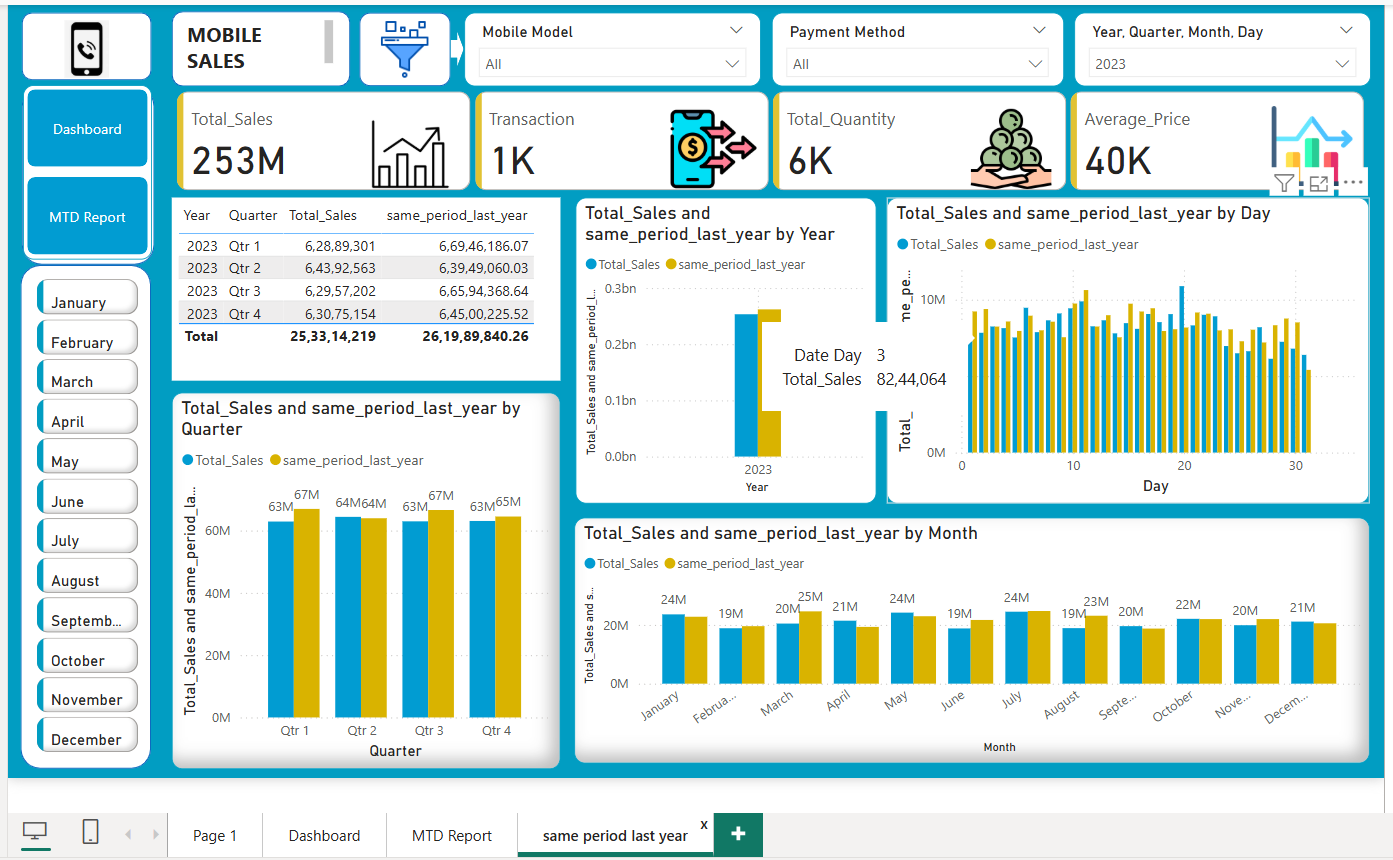

Layout of this report page (visuals, bound fields, positions):
{"tool":"powerbi","page":{"name":"same period last year","canvas":[1280,720],"ordinal":3},"visuals":[{"type":"shape","box":[12.3,6.9,120.8,63.1],"z":0},{"type":"image","box":[37,9.6,71.4,63.1],"z":1000},{"type":"shape","box":[12.3,75.5,123.5,166],"z":2000},{"type":"cardVisual","fields":{"Data":["mobile_sales_dataset.Total_Sales","mobile_sales_dataset.Transaction","mobile_sales_dataset.Total_Quantity","mobile_sales_dataset.Average_Price"]},"box":[152.3,75.5,1115.6,102.9],"z":3000},{"type":"slicer","fields":{"Values":["mobile_sales_dataset.Mobile Model"]},"box":[424,6.9,275.8,68.6],"z":4000},{"type":"slicer","fields":{"Values":["mobile_sales_dataset.Payment Method"]},"box":[710.8,6.9,271.7,68.6],"z":5000},{"type":"slicer","fields":{"Values":["custom_calender.Date.Variation.Date Hierarchy.Year","custom_calender.Date.Variation.Date Hierarchy.Quarter","custom_calender.Date.Variation.Date Hierarchy.Month","custom_calender.Date.Variation.Date Hierarchy.Day"]},"box":[992.1,6.9,275.8,68.6],"z":6000},{"type":"shape","box":[326.6,6.9,85.1,68.6],"z":7000},{"type":"image","box":[318.4,9.6,101.5,64.5],"z":8000},{"type":"shape","box":[411.7,24.7,12.3,32.9],"z":9000},{"type":"shape","box":[152.3,5.5,166,70],"z":10000},{"type":"shape","box":[11.4,241.4,121.4,468.6],"z":11000},{"type":"textbox","box":[161.9,9.6,145.5,64.5],"z":12000},{"type":"tableEx","fields":{"Values":["custom_calender.Date.Variation.Date Hierarchy.Year","custom_calender.Date.Variation.Date Hierarchy.Quarter","mobile_sales_dataset.Total_Sales","mobile_sales_dataset.same_period_last_year"]},"box":[152.5,178.8,361.2,170],"z":14000},{"type":"clusteredColumnChart","fields":{"Category":["custom_calender.Date.Variation.Date Hierarchy.Year","custom_calender.Date.Variation.Date Hierarchy.Quarter"],"Y":["mobile_sales_dataset.Total_Sales","mobile_sales_dataset.same_period_last_year"]},"box":[527.5,178.8,280,285],"z":15000},{"type":"clusteredColumnChart","fields":{"Y":["mobile_sales_dataset.Total_Sales","mobile_sales_dataset.same_period_last_year"],"Category":["custom_calender.Date.Variation.Date Hierarchy.Month"]},"box":[527.1,477.1,740,228.6],"z":16000},{"type":"clusteredColumnChart","fields":{"Category":["custom_calender.Date.Variation.Date Hierarchy.Quarter"],"Y":["mobile_sales_dataset.Total_Sales","mobile_sales_dataset.same_period_last_year"]},"box":[152.5,360,361.2,350],"z":17000},{"type":"pageNavigator","box":[13.8,75,120,162.5],"z":18000},{"type":"advancedSlicerVisual","fields":{"Values":["custom_calender.Date.Variation.Date Hierarchy.Month"]},"box":[22,249.7,104.3,455.6],"z":19000},{"type":"clusteredColumnChart","fields":{"Y":["mobile_sales_dataset.Total_Sales","mobile_sales_dataset.same_period_last_year"],"Category":["custom_calender.Date.Variation.Date Hierarchy.Day"]},"box":[817.5,178.8,448.8,285],"z":20000}]}

Visuals, with their boxes on the page's 1280x720 design canvas (x1, y1, x2, y2). These are canvas units, not pixel positions in the 1393x860 screenshot, which may show the page scaled, cropped or inside an application window:
shape: rect(12, 7, 133, 70)
image: rect(37, 10, 108, 73)
shape: rect(12, 76, 136, 242)
cardVisual - mobile_sales_dataset.Total_Sales x mobile_sales_dataset.Transaction: rect(152, 76, 1268, 178)
slicer - mobile_sales_dataset.Mobile Model: rect(424, 7, 700, 76)
slicer - mobile_sales_dataset.Payment Method: rect(711, 7, 982, 76)
slicer - custom_calender.Date.Variation.Date Hierarchy.Year x custom_calender.Date.Variation.Date Hierarchy.Quarter: rect(992, 7, 1268, 76)
shape: rect(327, 7, 412, 76)
image: rect(318, 10, 420, 74)
shape: rect(412, 25, 424, 58)
shape: rect(152, 6, 318, 76)
shape: rect(11, 241, 133, 710)
textbox: rect(162, 10, 307, 74)
tableEx - custom_calender.Date.Variation.Date Hierarchy.Year x custom_calender.Date.Variation.Date Hierarchy.Quarter: rect(152, 179, 514, 349)
clusteredColumnChart - custom_calender.Date.Variation.Date Hierarchy.Year x custom_calender.Date.Variation.Date Hierarchy.Quarter: rect(528, 179, 808, 464)
clusteredColumnChart - mobile_sales_dataset.Total_Sales x mobile_sales_dataset.same_period_last_year: rect(527, 477, 1267, 706)
clusteredColumnChart - custom_calender.Date.Variation.Date Hierarchy.Quarter x mobile_sales_dataset.Total_Sales: rect(152, 360, 514, 710)
pageNavigator: rect(14, 75, 134, 238)
advancedSlicerVisual - custom_calender.Date.Variation.Date Hierarchy.Month: rect(22, 250, 126, 705)
clusteredColumnChart - mobile_sales_dataset.Total_Sales x mobile_sales_dataset.same_period_last_year: rect(818, 179, 1266, 464)
